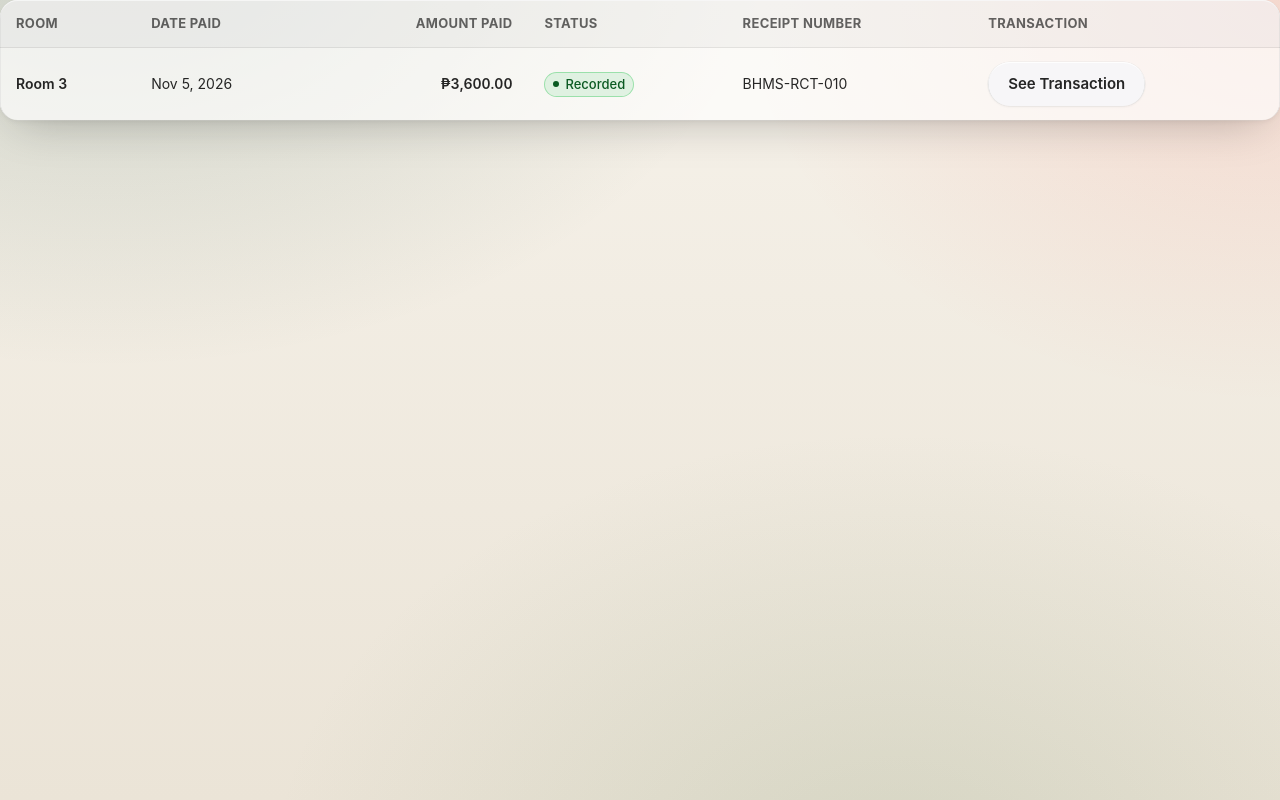
Test: Payment History transaction dialog › shows Room, date, amount, status, receipt, payer, and allocations without payment method
Click the button "See Transaction" at (1067, 84), box x1=988 y1=62 x2=1145 y2=106
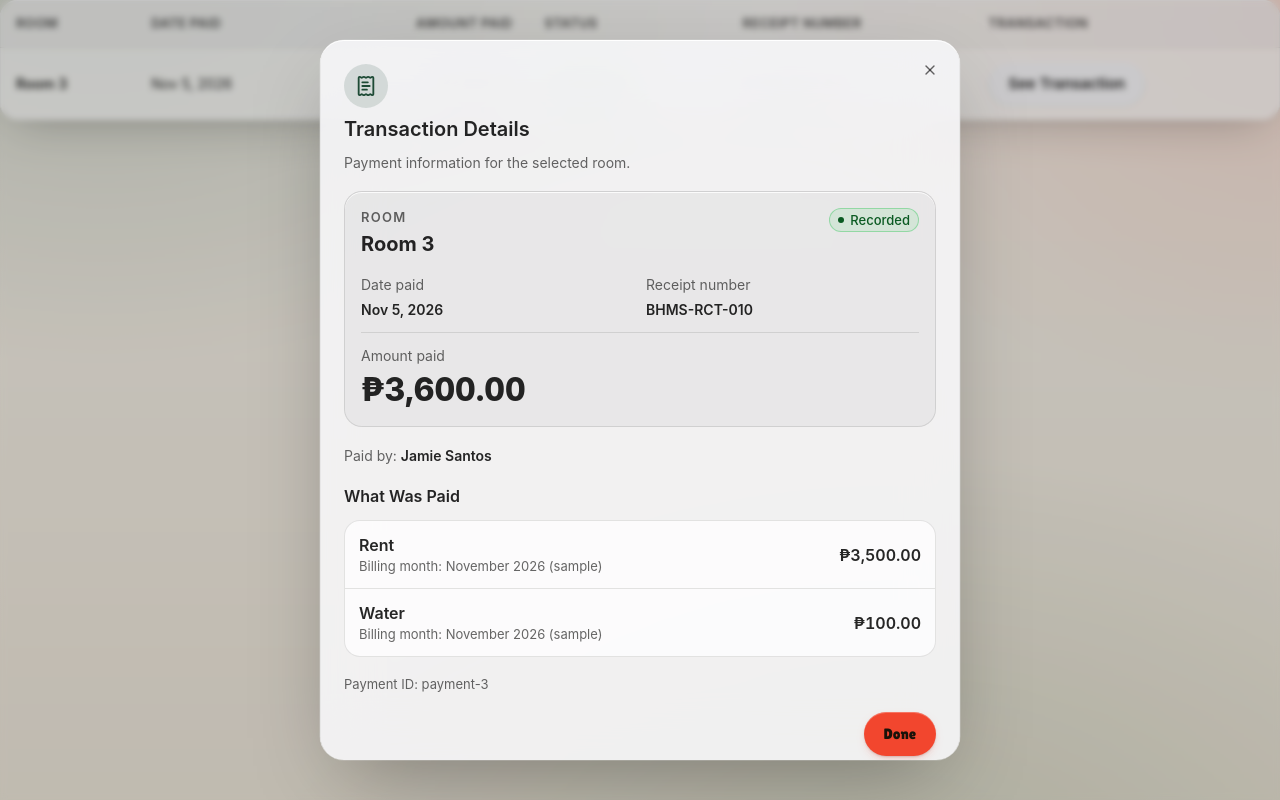
Expected: the dialog "Transaction Details" shows "Payment information for the selected room.", x1=344 y1=154 x2=630 y2=170
Expected: the text "Room 3" is shown once, x1=361 y1=230 x2=434 y2=258
Expected: the dialog "Transaction Details" shows "Nov 5, 2026", x1=361 y1=301 x2=443 y2=318
